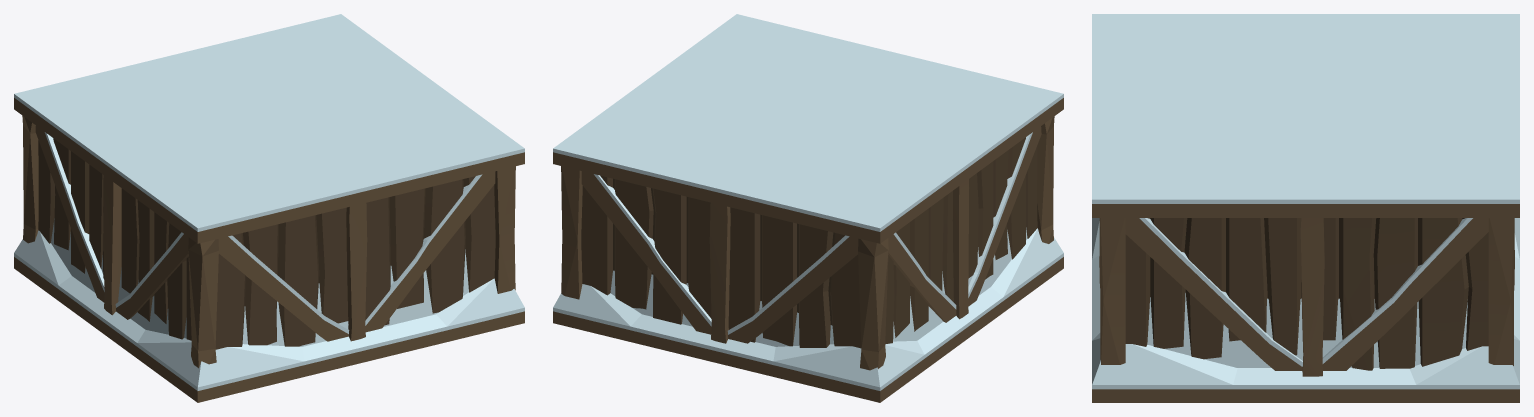
3 renders of one model, left to right at view 1: azimuth 30°, elevation 25°; view 2: azimuth 150°, elevation 25°; view 3: azimuth 270°, elevation 25°, orthographic. The views are drawn at different scales.
Parts seen in each view (by area): view 1: SM_Bld_Base_02_Snow; view 2: SM_Bld_Base_02_Snow; view 3: SM_Bld_Base_02_Snow.
Boxes of the visible parts, x1,y1,x2,y2 form: SM_Bld_Base_02_Snow: [14, 14, 524, 402]; SM_Bld_Base_02_Snow: [553, 14, 1063, 402]; SM_Bld_Base_02_Snow: [1092, 14, 1519, 402].
Size of the model in its own units: 4.57 by 2.33 by 4.45.
Materials: 1 (1 with a texture image).
